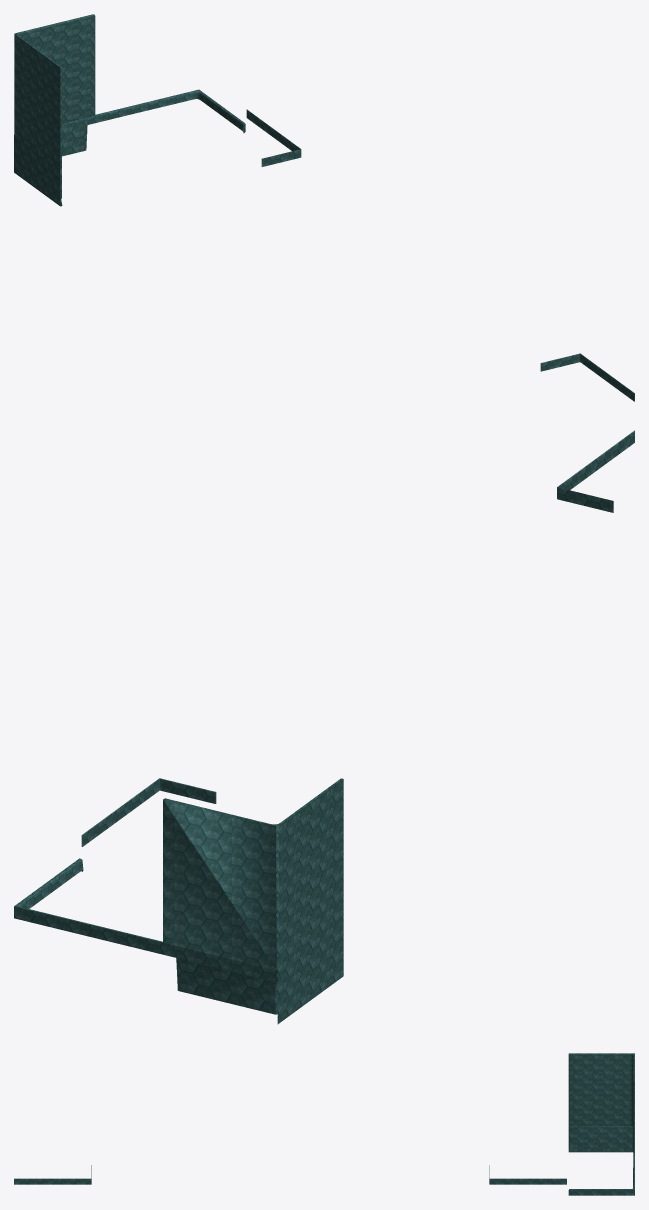
Rendered from 1860_bathroom_BP_BackplashZelligeMystique.gltf.
3 views of the same model, one above another, from view 1: azimuth 30°, elevation 25°; view 2: azimuth 150°, elevation 25°; view 3: azimuth 270°, elevation 25° (orthographic). The views are drawn at different scales.
Visible parts, largest first — view 1: Zellige_Mystique.001; view 2: Zellige_Mystique.001; view 3: Zellige_Mystique.001.
Part boxes in pixels (box(x1,y1,x2,y2)): Zellige_Mystique.001: box(14, 14, 634, 401); Zellige_Mystique.001: box(14, 430, 634, 1024); Zellige_Mystique.001: box(14, 1053, 634, 1195).
Size of the model in its own units: 4.6 by 3.3 by 18.76.
1 material, 1 textured.
